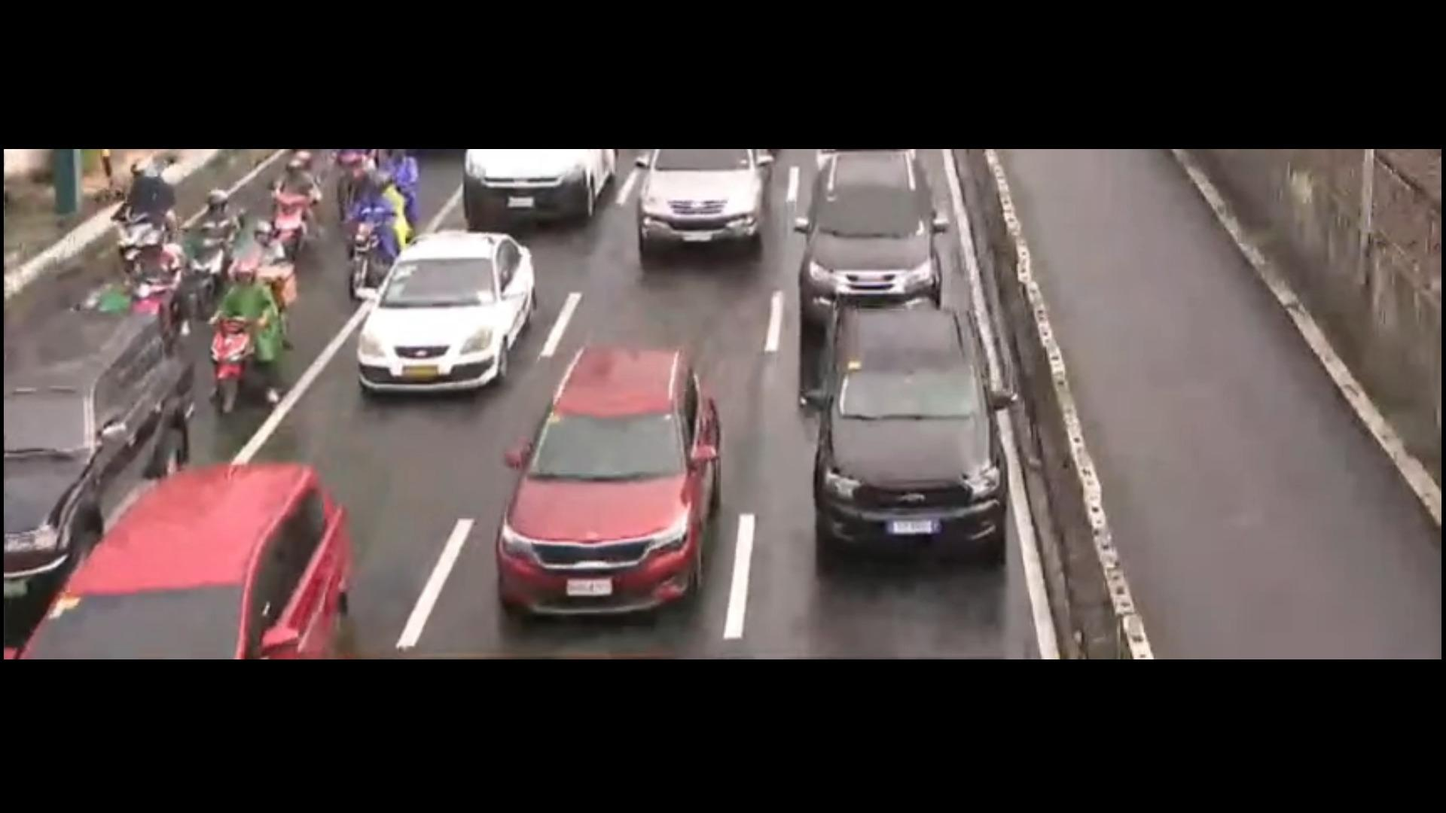Motorcycle: (210, 251, 305, 423), (326, 160, 432, 306), (91, 160, 187, 273), (117, 217, 213, 327), (236, 179, 326, 291), (186, 181, 249, 276)
SUV: (9, 428, 418, 658), (483, 326, 750, 622), (778, 292, 1027, 568), (0, 300, 211, 578), (790, 140, 949, 327), (627, 151, 778, 269)
Sedan: (342, 227, 545, 405)
